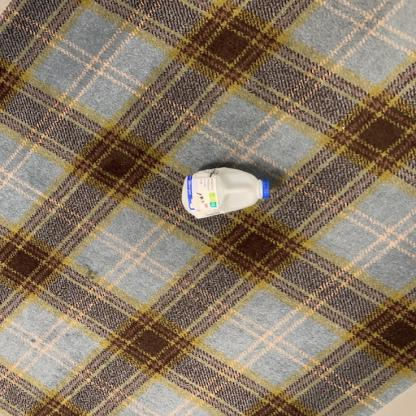trash: (180, 164, 270, 222)
